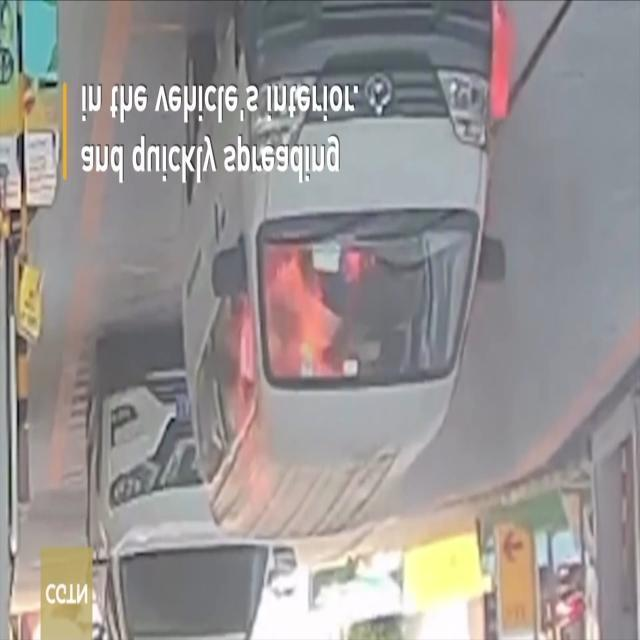fire: (262, 248, 352, 382), (238, 294, 262, 464), (490, 0, 518, 132)
